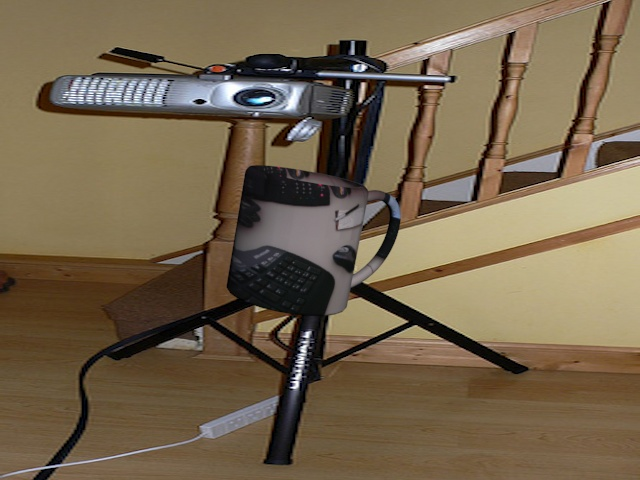mug: (225, 160, 416, 320)
